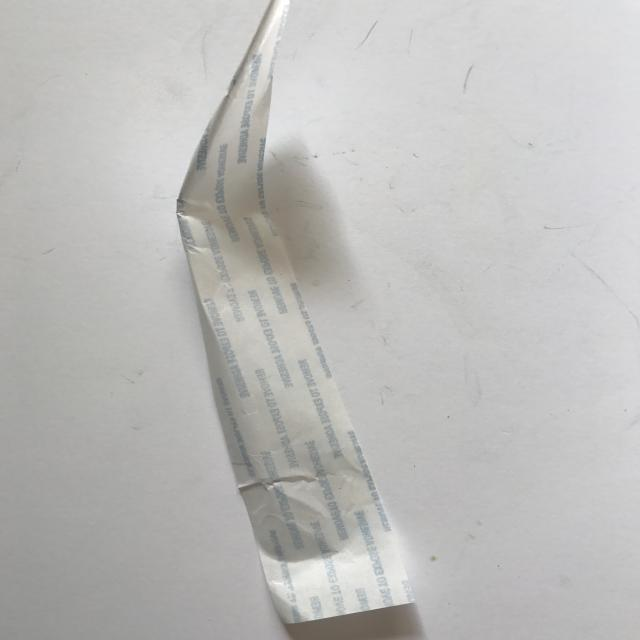paper: (160, 2, 448, 640)
